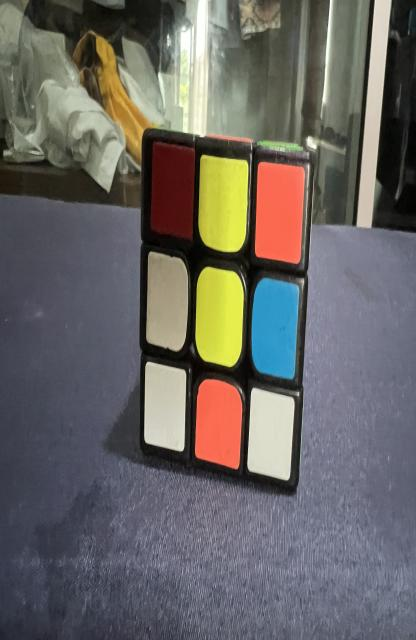Blue: (252, 278, 299, 380)
Orange: (255, 162, 305, 263), (195, 378, 242, 470)
Red: (150, 142, 195, 240)
White: (248, 388, 295, 480), (146, 252, 188, 352), (144, 362, 186, 452)
Yellow: (198, 155, 249, 252), (196, 267, 244, 367)
